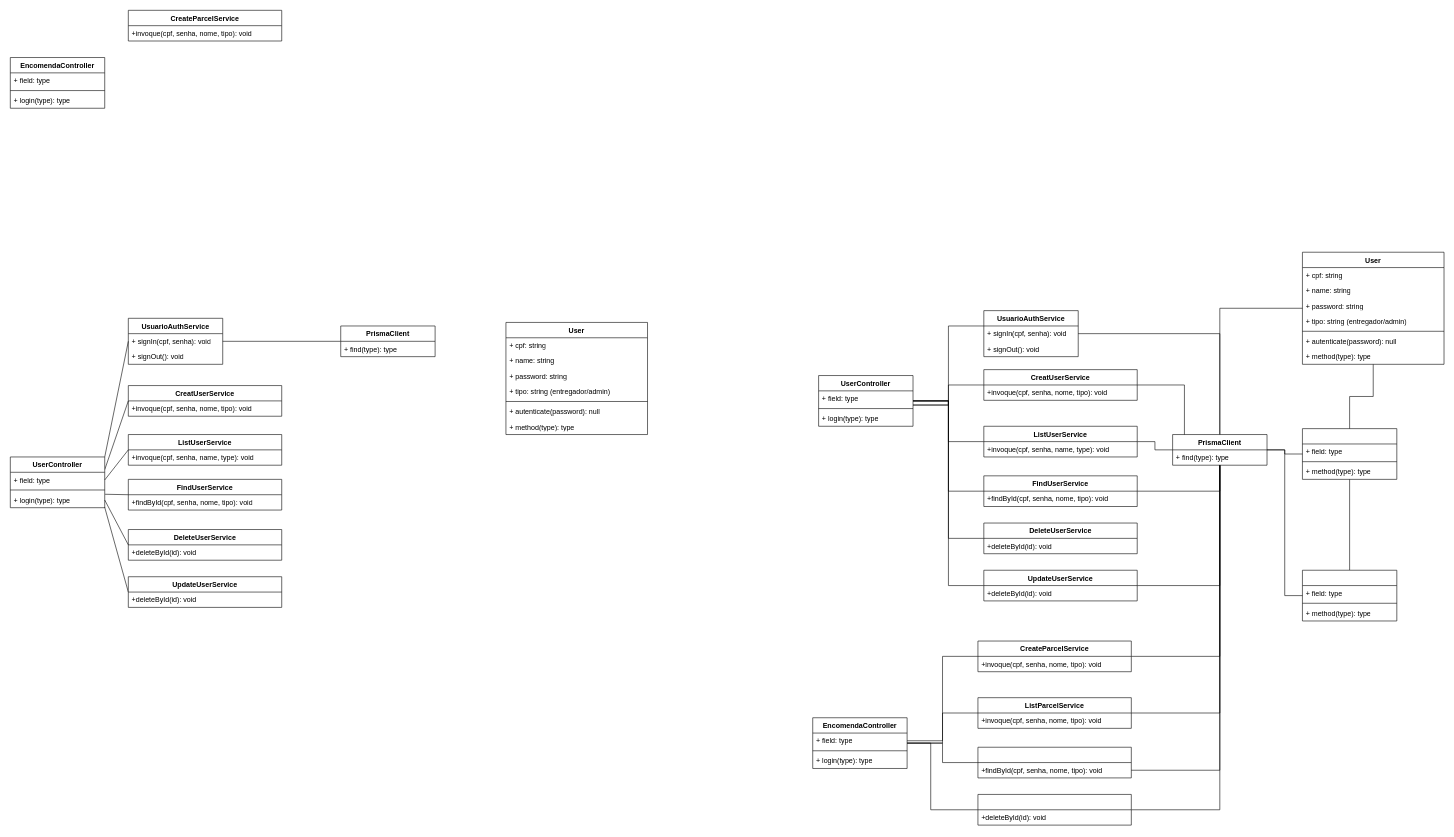
This 1454x837 diagram has some shape labels left out. Each missing label, with the box of its shape:
DeleteParcelService: (977, 794, 1131, 825)
FindParcelService: (977, 747, 1131, 778)
Parcel: (1302, 428, 1397, 479)
Recipient: (1302, 570, 1397, 621)
